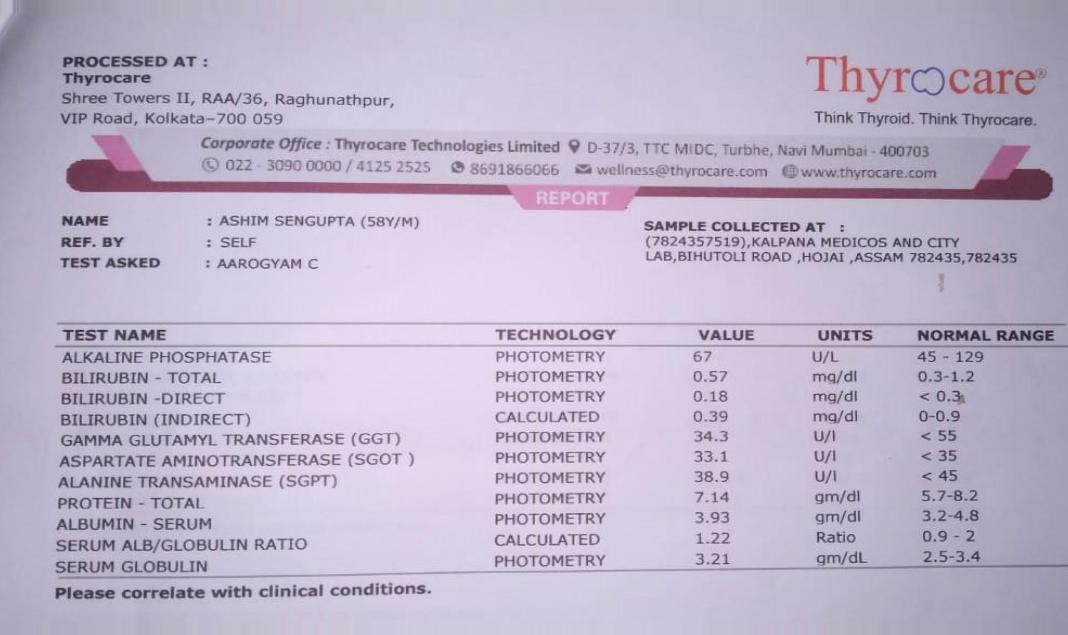Reference Range: (909, 343, 993, 571)
Test Name: (45, 345, 425, 580)
Units: (801, 343, 880, 571)
Value: (682, 343, 747, 571)
